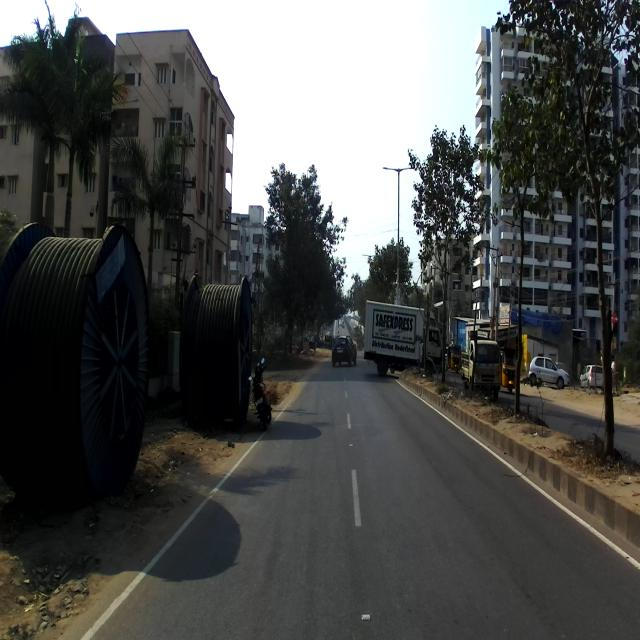barrier ahead at: (2, 218, 154, 510), (178, 267, 250, 428)
